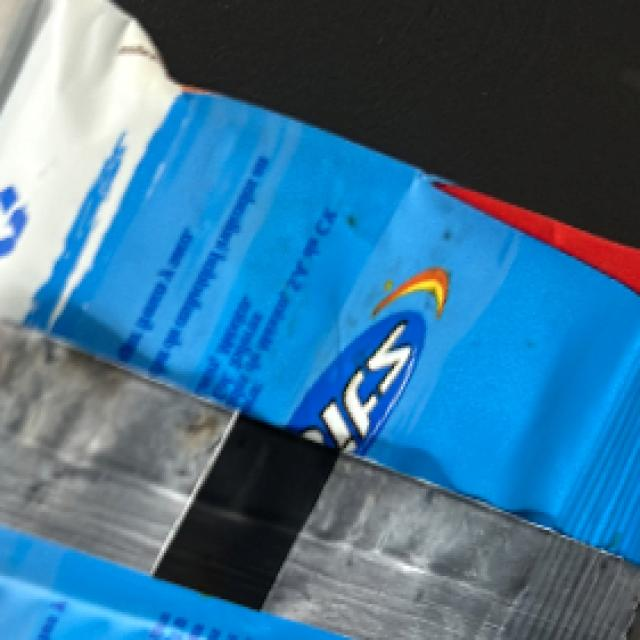productoAtras: (11, 115, 622, 640)
